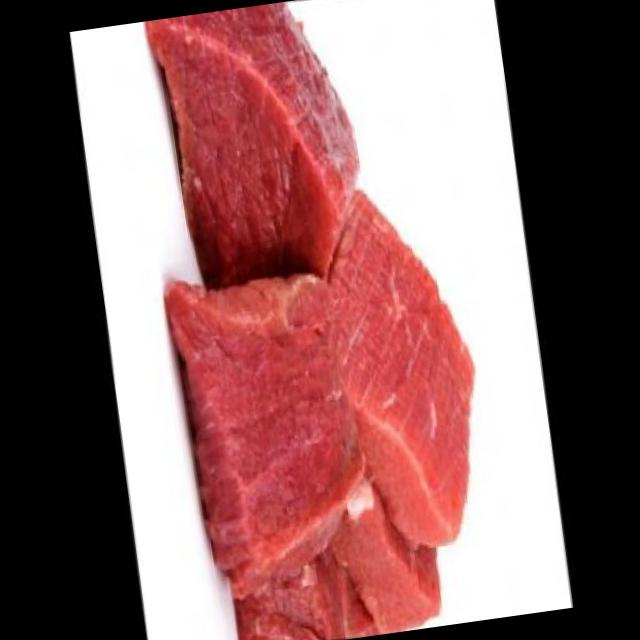beef: (117, 0, 514, 640)
